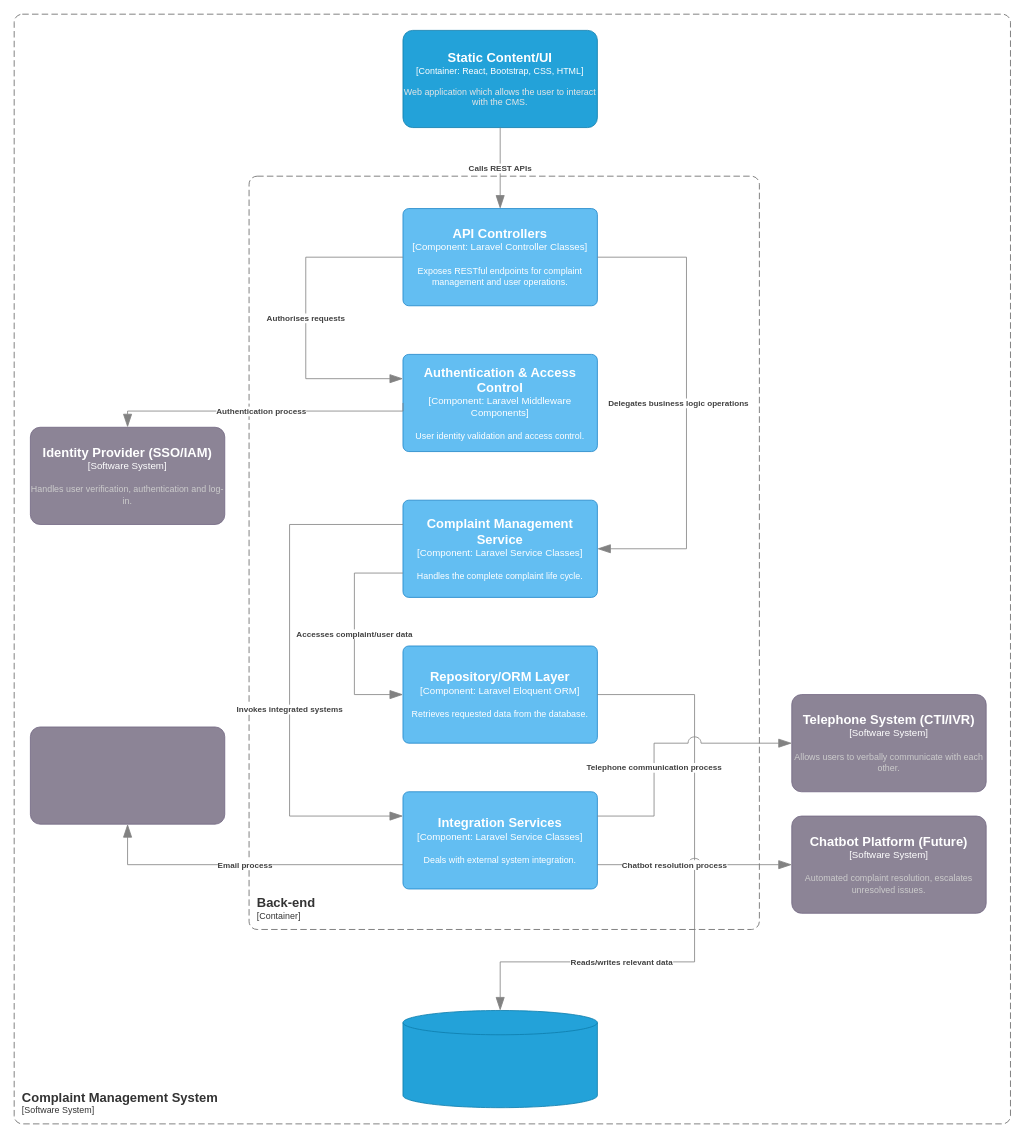
Some shapes in this 1025 by 1138 pixel diagram are drawn without their labels. Each missing label, with the centre of its shape:
Database [Container: PostgreSQL] Stores all relevant complaint information.: the point at 499,1059
Email System [Software System] Sends emails when prompted.: the point at 127,775
